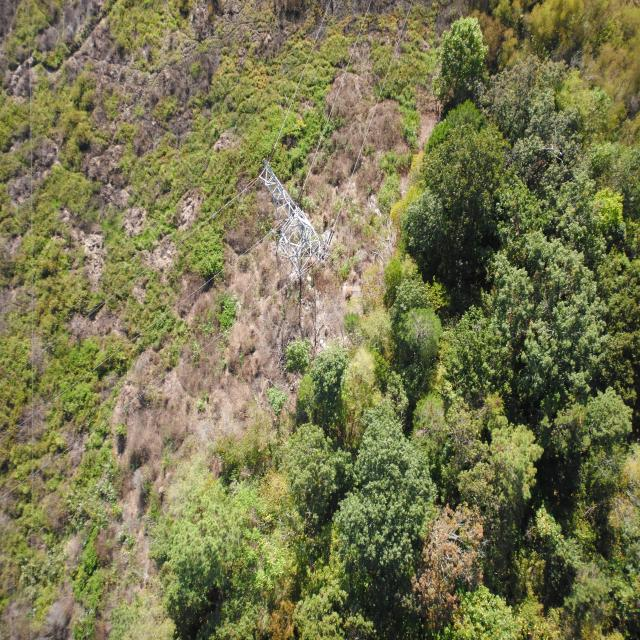Area of Interest: (187, 44, 635, 628)
